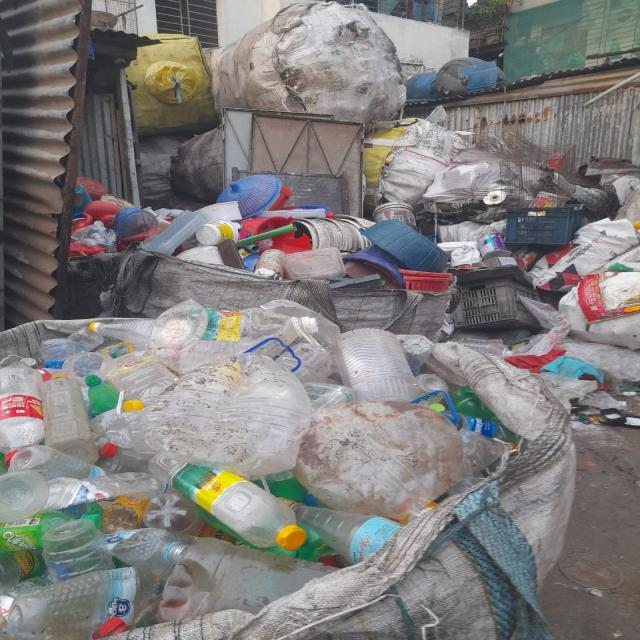plastic: (154, 453, 310, 553), (10, 570, 168, 631), (0, 362, 44, 466), (105, 522, 191, 571), (84, 375, 121, 413)
